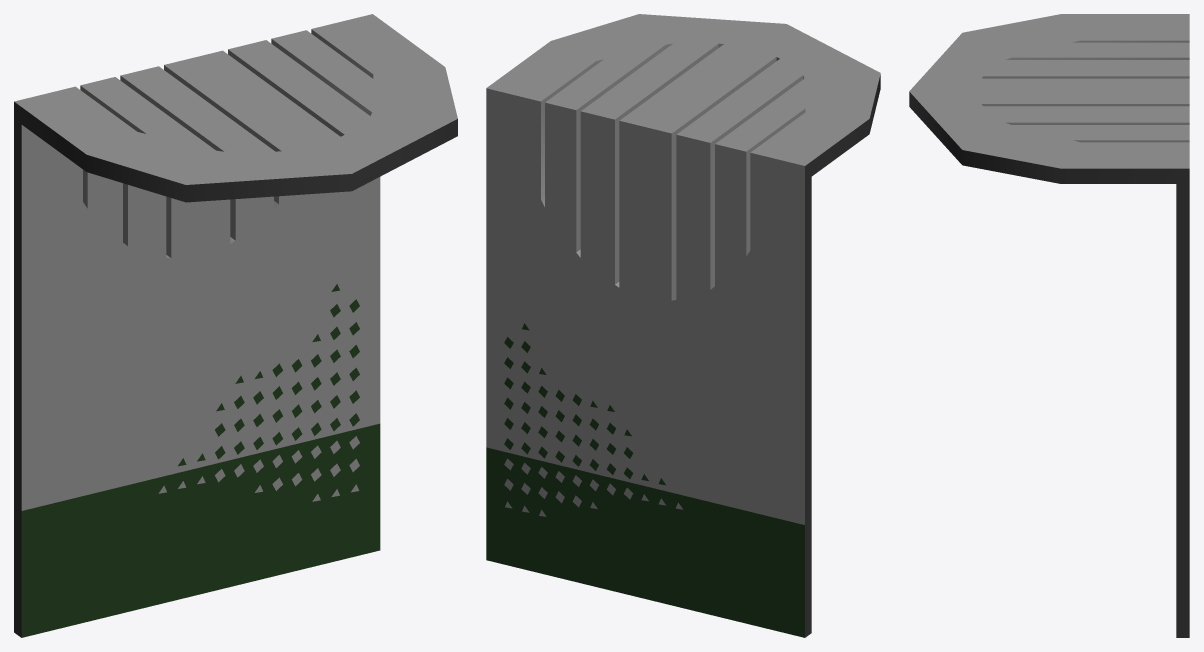
The model's file is W_O_Shade_001_L3.fbx.
3 renders of one model, left to right at view 1: azimuth 30°, elevation 25°; view 2: azimuth 150°, elevation 25°; view 3: azimuth 270°, elevation 25°, orthographic. The views are drawn at different scales.
Visible parts, largest first — view 1: W_O_Shade_001_L3; view 2: W_O_Shade_001_L3; view 3: W_O_Shade_001_L3.
Boxes of the visible parts, box(x1,y1,x2,y2) form: W_O_Shade_001_L3: box(14, 14, 457, 637); W_O_Shade_001_L3: box(486, 14, 880, 637); W_O_Shade_001_L3: box(909, 14, 1189, 637).
Bounding box in the file's own units: 2.8 × 3.96 × 2.15.
